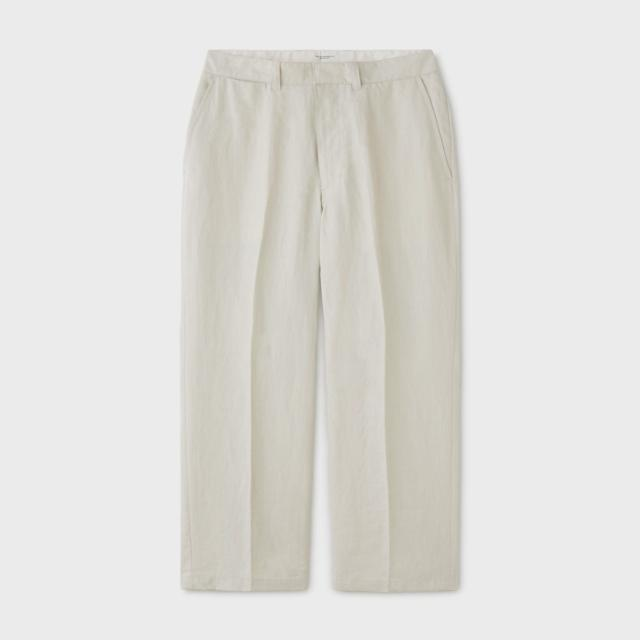long-pants: (178, 49, 465, 598)
